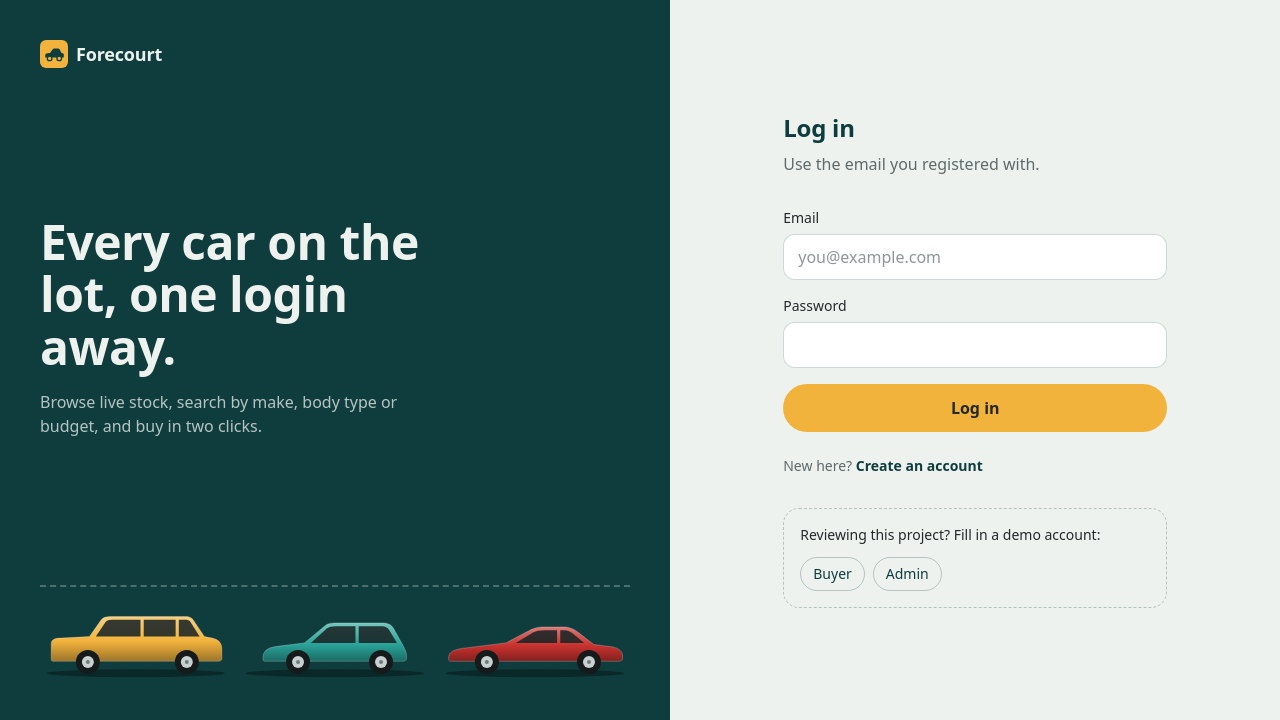
Test case: LoginPage › shows the server error on bad credentials
Type "a@b.co" into the field labelled "Email".
click(975, 257); type("a@b.co")  # box x1=783 y1=234 x2=1167 y2=280
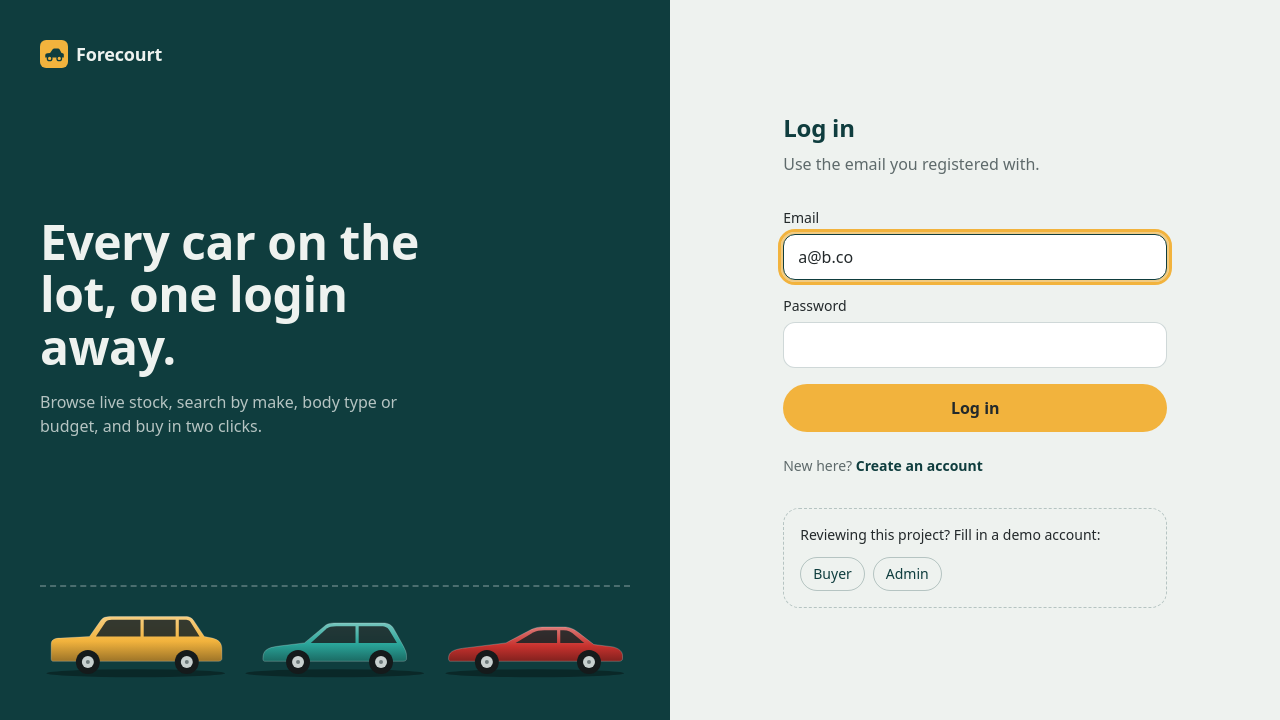
Type "wrongpass" into the password field labelled "Password".
click(975, 345); type("wrongpass")  # box x1=783 y1=322 x2=1167 y2=368
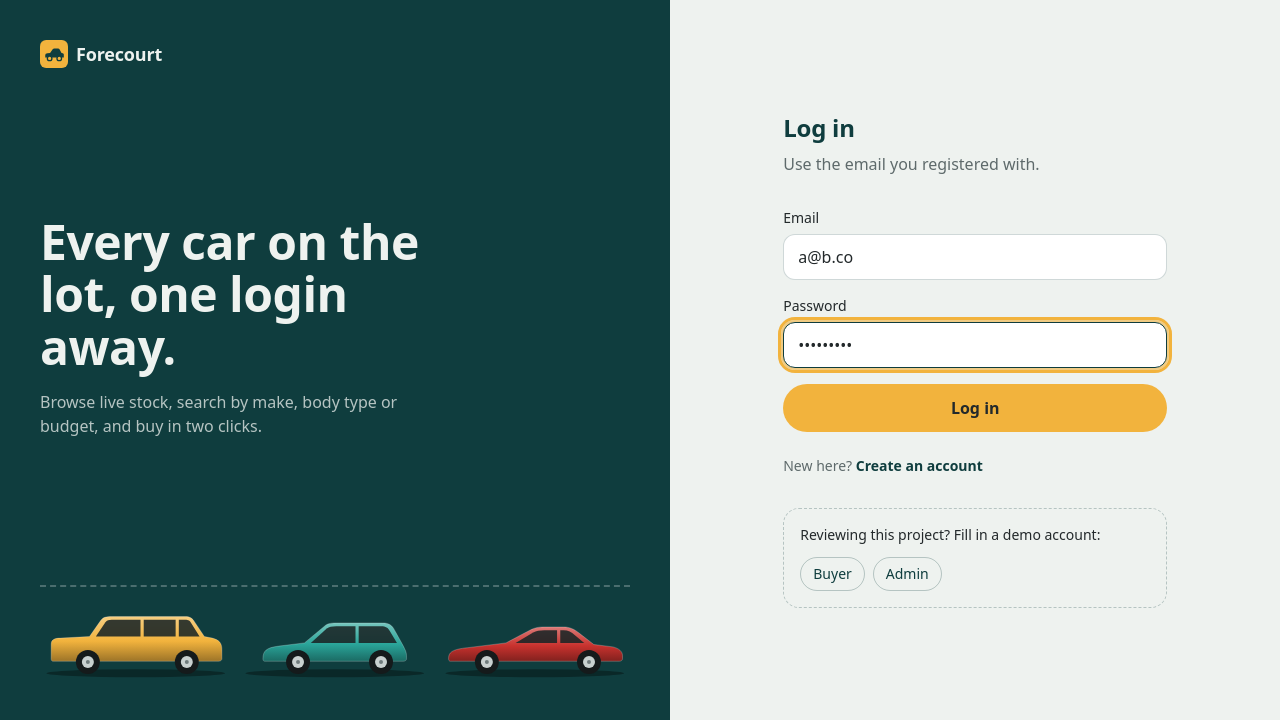
Click the button "Log in".
click(975, 408)  # box x1=783 y1=384 x2=1167 y2=432
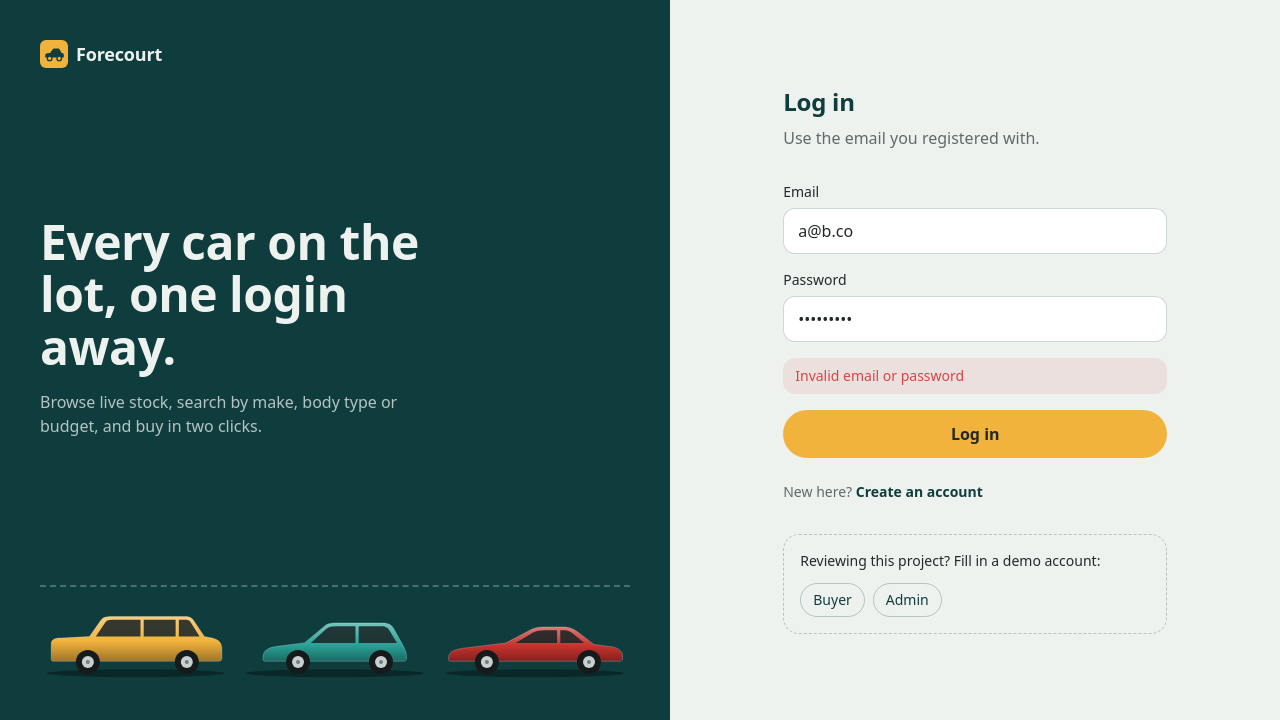
Expected: the message reads "Invalid email or password", x1=795 y1=366 x2=964 y2=385
